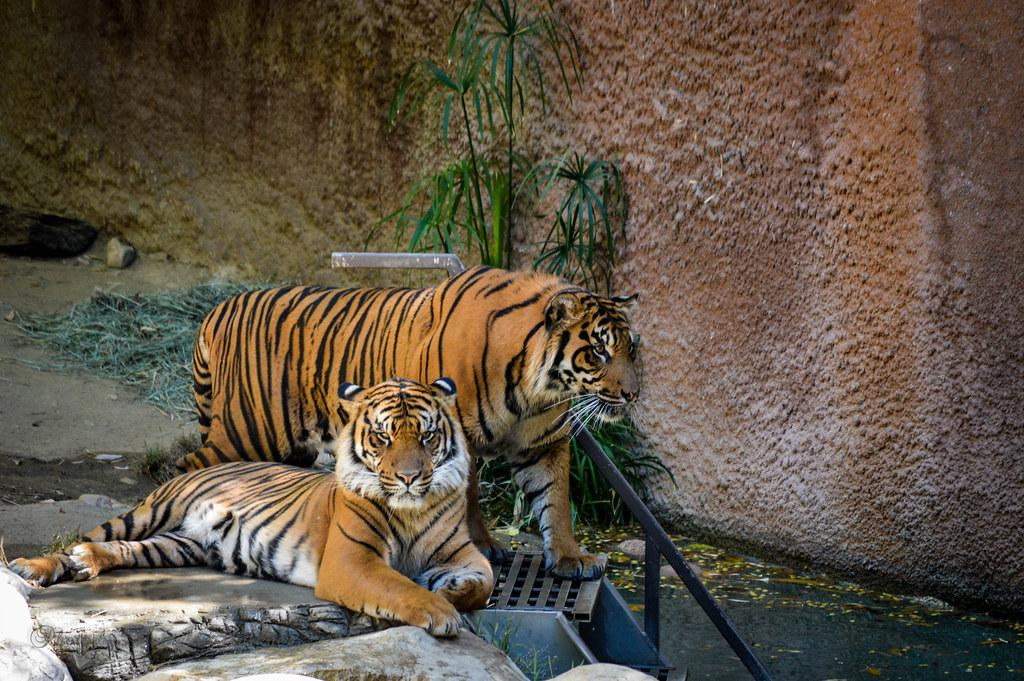tiger: (172, 264, 644, 582), (5, 375, 496, 639)
